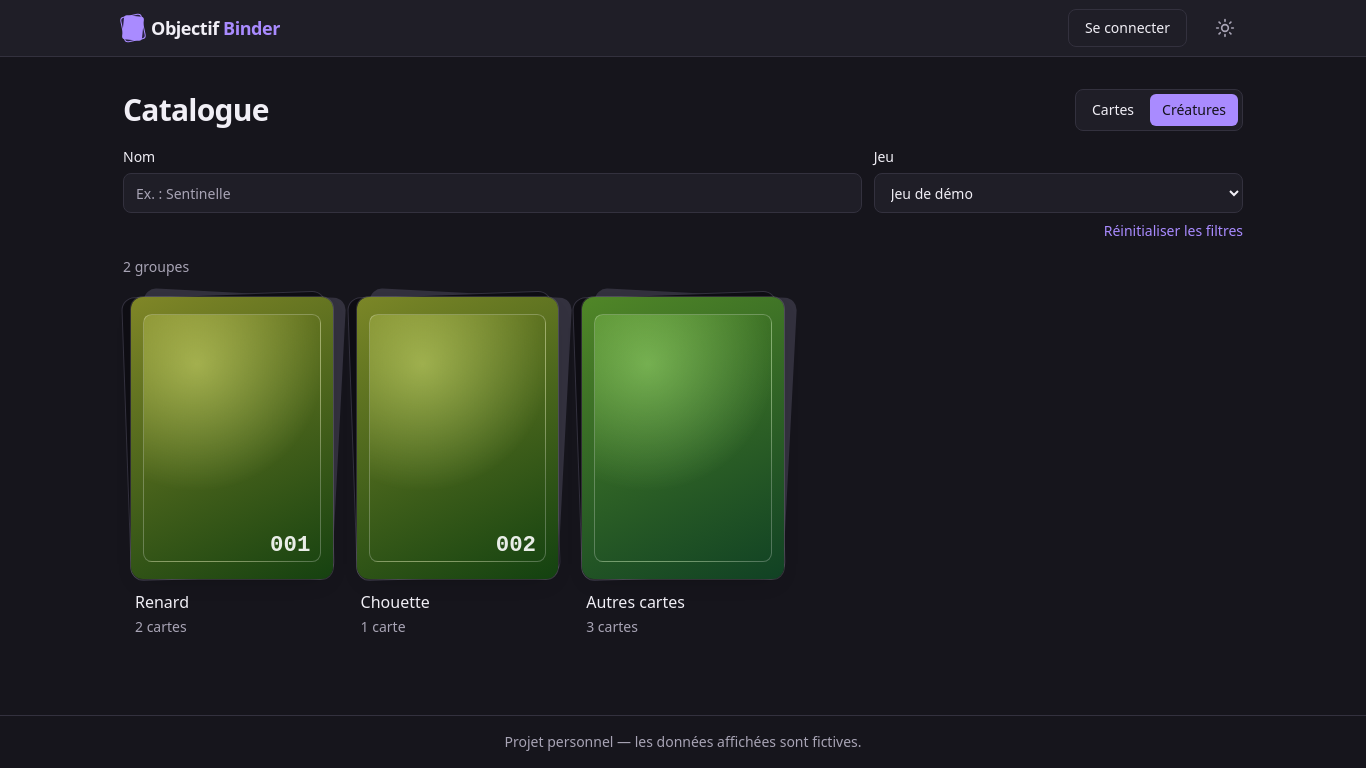
Test: grouped catalogue (one entry per identity) › opens the cards without identity from the last entry
This screenshot has width=1366, height=768.
Click the heading "Autres cartes": (636, 602) [586,591,685,613]
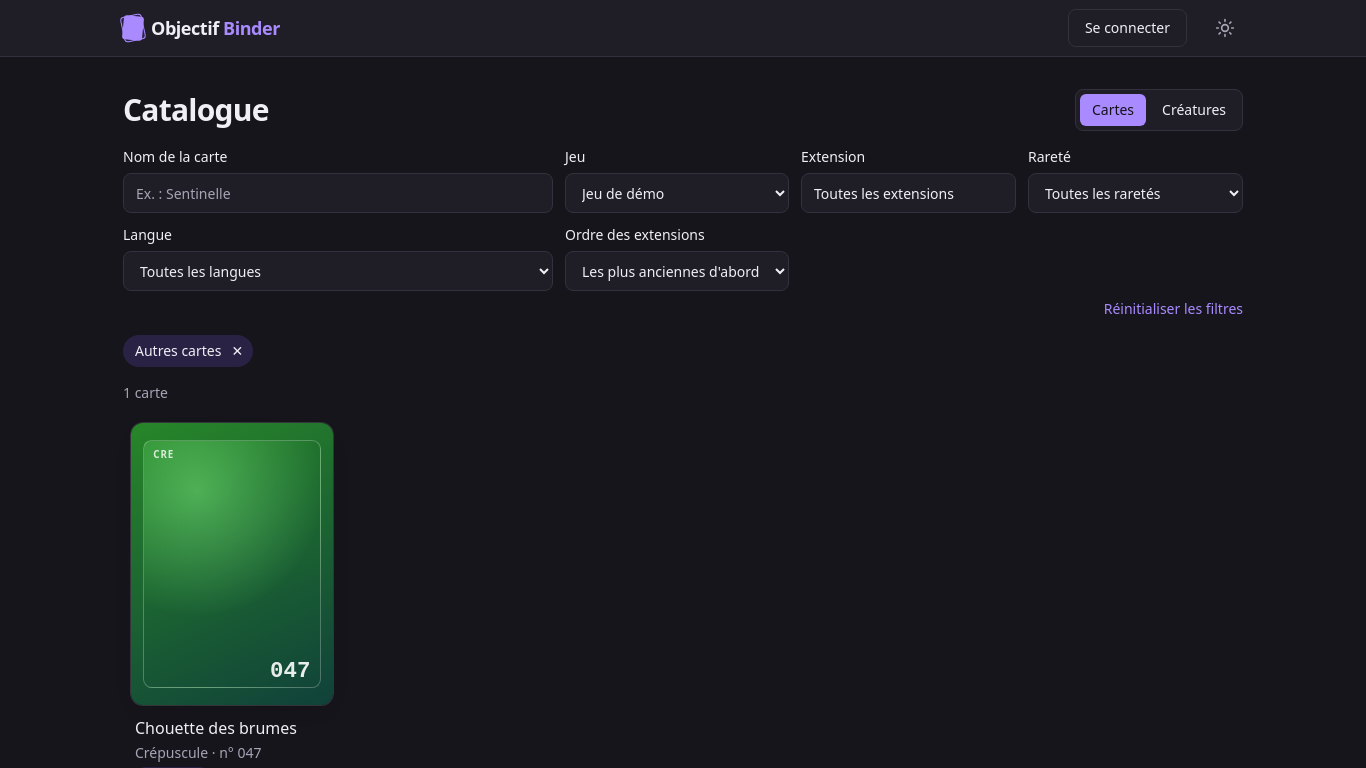
Check: the button named "Retirer le filtre Autres cartes" is shown, box [225,339,249,363]
